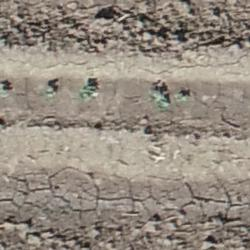cotton: (81, 87, 93, 96), (158, 96, 169, 105), (175, 94, 188, 101), (1, 84, 6, 92)
